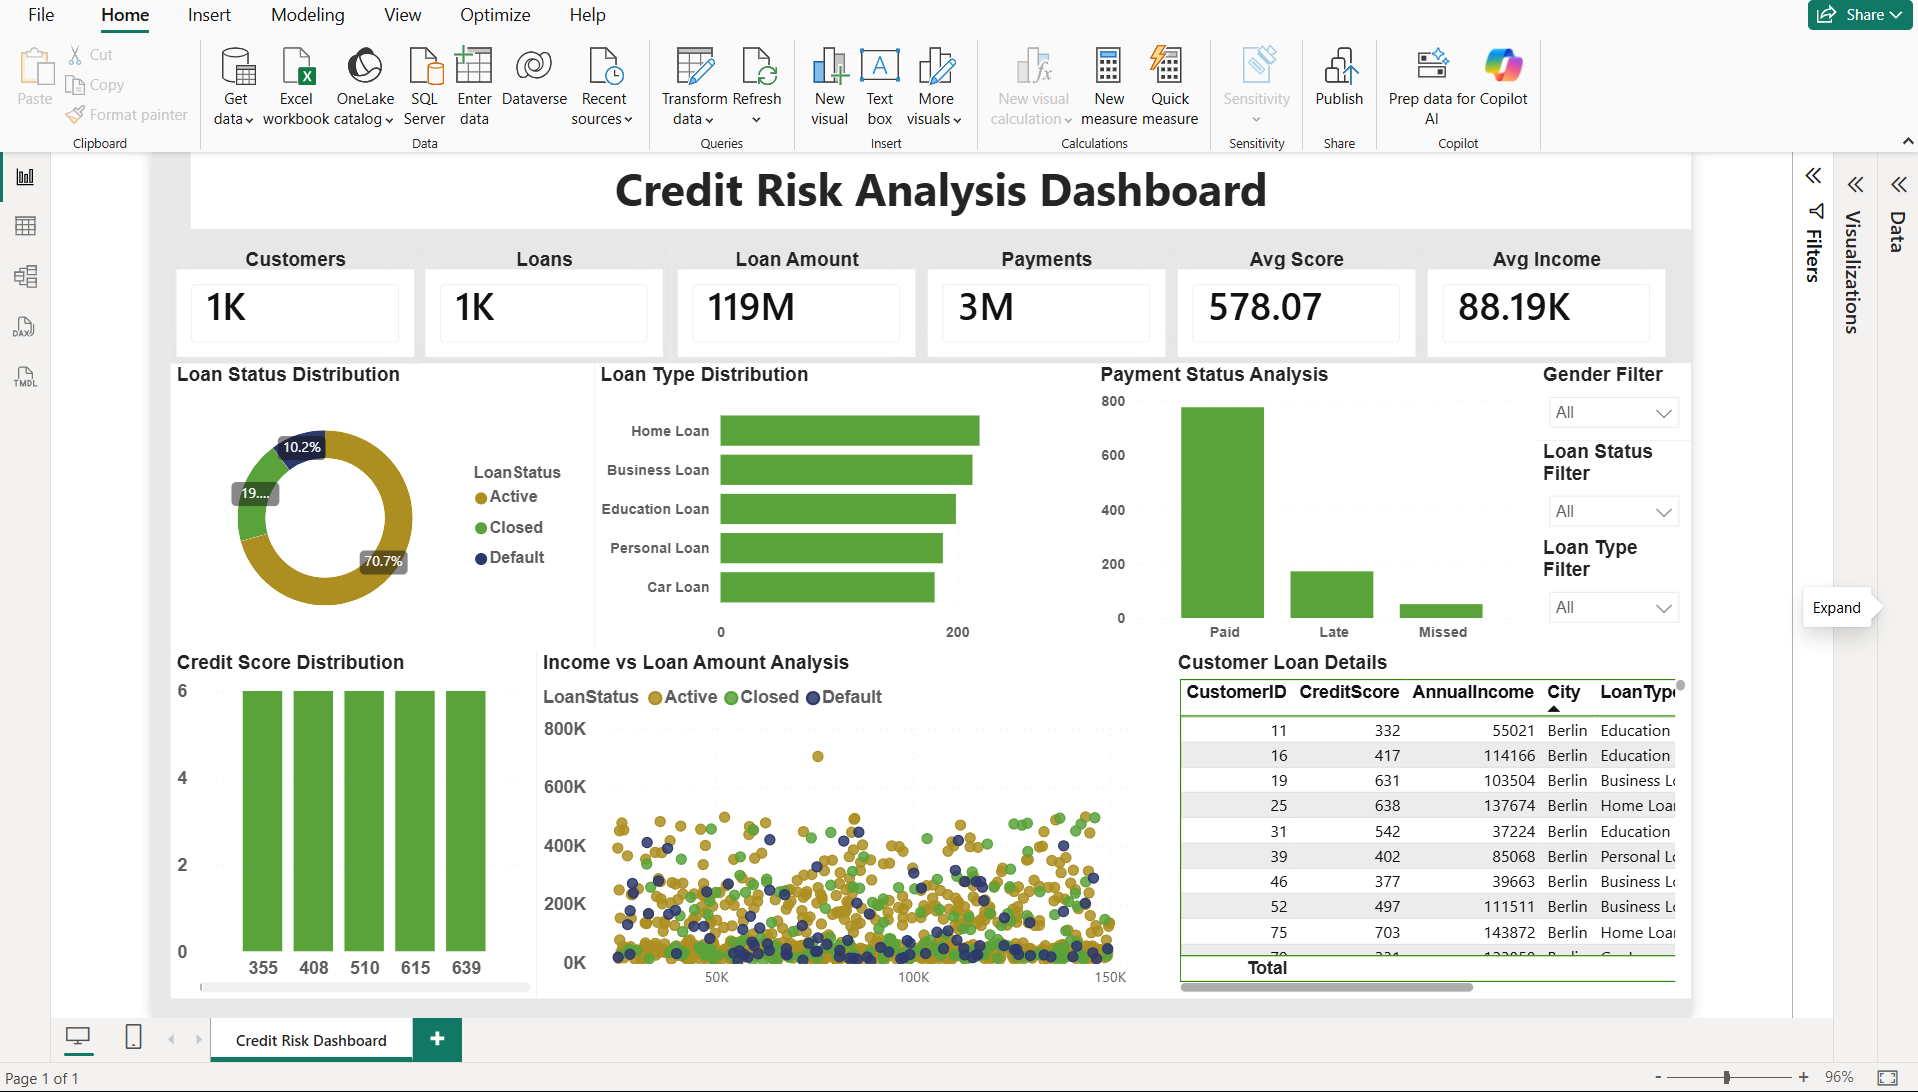

What the dashboard file says about the page in this screenshot:
{"tool":"powerbi","page":{"name":"Credit Risk Dashboard","canvas":[1280,720],"ordinal":0},"visuals":[{"type":"textbox","box":[32,0,1248,64],"z":1000},{"type":"cardVisual","title":"Loans","fields":{"Data":["Loans.Total Loans"]},"box":[222,80,208,96],"z":2000},{"type":"cardVisual","title":" Loan Amount","fields":{"Data":["Loans.Total Loan Amount"]},"box":[432,80,208,96],"z":3000},{"type":"cardVisual","title":" Payments","fields":{"Data":["Payments.Total Payment Amount"]},"box":[640,80,208,96],"z":4000},{"type":"cardVisual","title":"Avg Score","fields":{"Data":["Customers.Average Credit Score"]},"box":[848,80,208,96],"z":5000},{"type":"cardVisual","title":" Avg Income ","fields":{"Data":["Customers.Average Annual Income"]},"box":[1056,80,208,96],"z":6000},{"type":"donutChart","title":"Loan Status Distribution","fields":{"Category":["Loans.LoanStatus"],"Y":["CountNonNull(Loans.LoanID)"]},"box":[16,176,352,240],"z":7000},{"type":"clusteredBarChart","title":"Loan Type Distribution","fields":{"Category":["Loans.LoanType"],"Y":["CountNonNull(Loans.LoanID)"]},"box":[368,176,416,240],"z":8000},{"type":"clusteredColumnChart","title":"Payment Status Analysis","fields":{"Category":["Payments.PaymentStatus"],"Y":["CountNonNull(Payments.PaymentID)"]},"box":[784,176,368,240],"z":9000},{"type":"clusteredColumnChart","title":"Credit Score Distribution","fields":{"Category":["Customers.CreditScore"],"Y":["CountNonNull(Customers.CustomerID)"]},"box":[16,416,304,288],"z":10000},{"type":"scatterChart","title":"Income vs Loan Amount Analysis","fields":{"X":["Customers.AnnualIncome"],"Y":["Sum(Loans.LoanAmount)"],"Series":["Loans.LoanStatus"]},"box":[320,416,528,288],"z":11000},{"type":"tableEx","title":"Customer Loan Details","fields":{"Values":["Customers.CustomerID","Customers.CreditScore","Customers.AnnualIncome","Customers.City","Loans.LoanType","Sum(Loans.LoanAmount)","Loans.LoanStatus"]},"box":[848,416,432,288],"z":12000},{"type":"slicer","title":"Gender Filter","fields":{"Values":["Customers.Gender"]},"box":[1152,176,128,64],"z":13000},{"type":"slicer","title":"Loan Status Filter","fields":{"Values":["Loans.LoanStatus"]},"box":[1152,240,128,80],"z":14000},{"type":"slicer","title":"Loan Type Filter","fields":{"Values":["Loans.LoanType","Loans.LoanType","Loans.LoanType"]},"box":[1152,320,128,96],"z":15000},{"type":"cardVisual","title":"Customers","fields":{"Data":["Customers.Total Customers"]},"box":[16,80,208,96],"z":16000}]}

Visuals, with their boxes on the page's 1280x720 design canvas (x1, y1, x2, y2). These are canvas units, not pixel positions in the 1918x1092 screenshot, which may show the page scaled, cropped or inside an application window:
textbox: 32,0,1280,64
"Loans" cardVisual: 222,80,430,176
" Loan Amount" cardVisual: 432,80,640,176
" Payments" cardVisual: 640,80,848,176
"Avg Score" cardVisual: 848,80,1056,176
" Avg Income " cardVisual: 1056,80,1264,176
"Loan Status Distribution" donutChart: 16,176,368,416
"Loan Type Distribution" clusteredBarChart: 368,176,784,416
"Payment Status Analysis" clusteredColumnChart: 784,176,1152,416
"Credit Score Distribution" clusteredColumnChart: 16,416,320,704
"Income vs Loan Amount Analysis" scatterChart: 320,416,848,704
"Customer Loan Details" tableEx: 848,416,1280,704
"Gender Filter" slicer: 1152,176,1280,240
"Loan Status Filter" slicer: 1152,240,1280,320
"Loan Type Filter" slicer: 1152,320,1280,416
"Customers" cardVisual: 16,80,224,176
